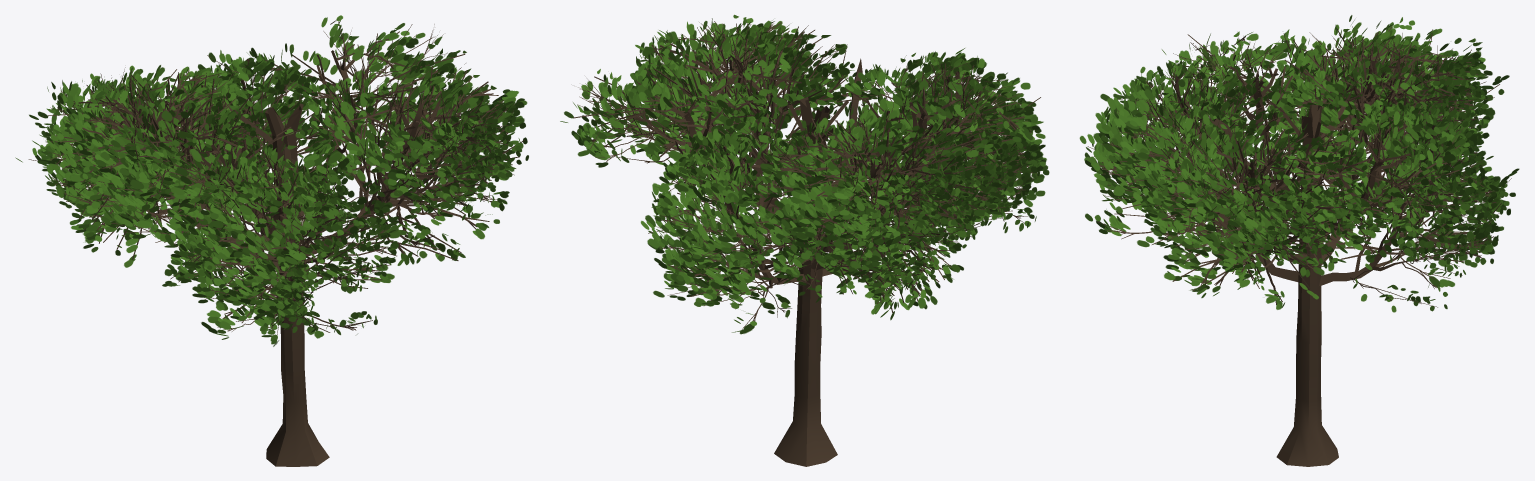
3 renders of one model, left to right at view 1: azimuth 30°, elevation 25°; view 2: azimuth 150°, elevation 25°; view 3: azimuth 270°, elevation 25°, orthographic. The views are drawn at different scales.
Parts seen in each view (by area): view 1: oak 01.001_trunk_Mat.001_0.113; view 2: oak 01.001_trunk_Mat.001_0.113; view 3: oak 01.001_trunk_Mat.001_0.113.
Part boxes in pixels (left/top/right/bottom): oak 01.001_trunk_Mat.001_0.113: left=15, top=15, right=528, bottom=466; oak 01.001_trunk_Mat.001_0.113: left=560, top=14, right=1049, bottom=466; oak 01.001_trunk_Mat.001_0.113: left=1079, top=15, right=1519, bottom=466.
Size of the model in its own units: 4.73 by 3.91 by 4.35.
Materials: 2 (1 with a texture image).
